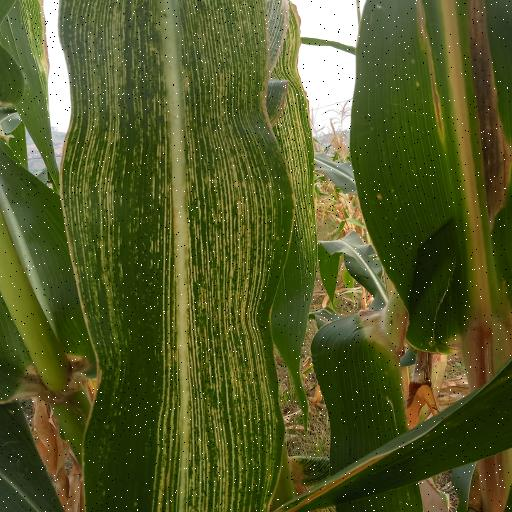Corn Streak: (48, 2, 358, 512)
